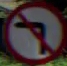Don't turn left: (7, 11, 58, 57)
